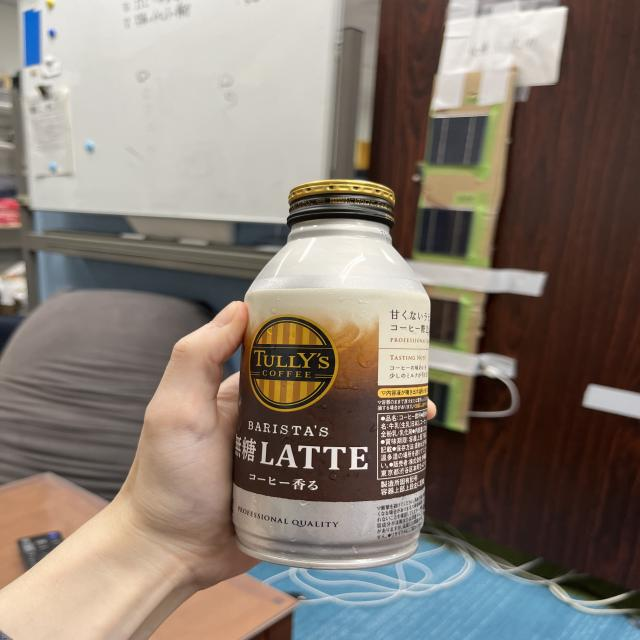coffee-latte: (230, 178, 431, 570)
